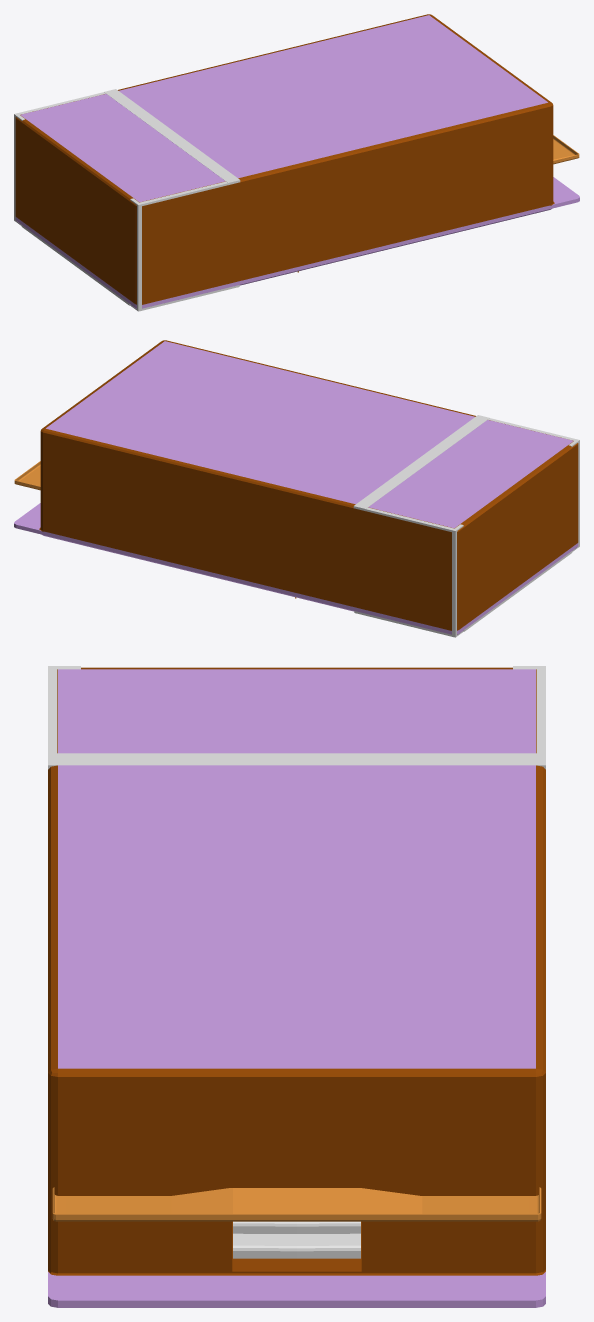
Rendered from BBA_interior.fbx.
3 renders of one model, top to bottom at view 1: azimuth 30°, elevation 25°; view 2: azimuth 150°, elevation 25°; view 3: azimuth 270°, elevation 25°, orthographic. The views are drawn at different scales.
Parts seen in each view (by area): view 1: Cube, Cube.002, stage.001, Cylinder; view 2: Cube, Cube.002, stage.001, Cylinder; view 3: Cube, Cylinder, stage.001, Cube.002.
Part boxes in pixels (x1,y1,x2,y2): Cube: (15, 14, 579, 308); Cube.002: (14, 92, 239, 311); stage.001: (104, 89, 240, 182); Cylinder: (297, 135, 579, 272); Cube: (14, 340, 578, 634); Cube.002: (354, 418, 579, 637); stage.001: (353, 415, 489, 508); Cylinder: (14, 461, 296, 598); Cube: (48, 667, 545, 1307); Cylinder: (52, 1187, 541, 1258); stage.001: (48, 753, 545, 769); Cube.002: (48, 666, 545, 753).
Bounding box in the file's own units: 8792 × 2040 × 4267.
